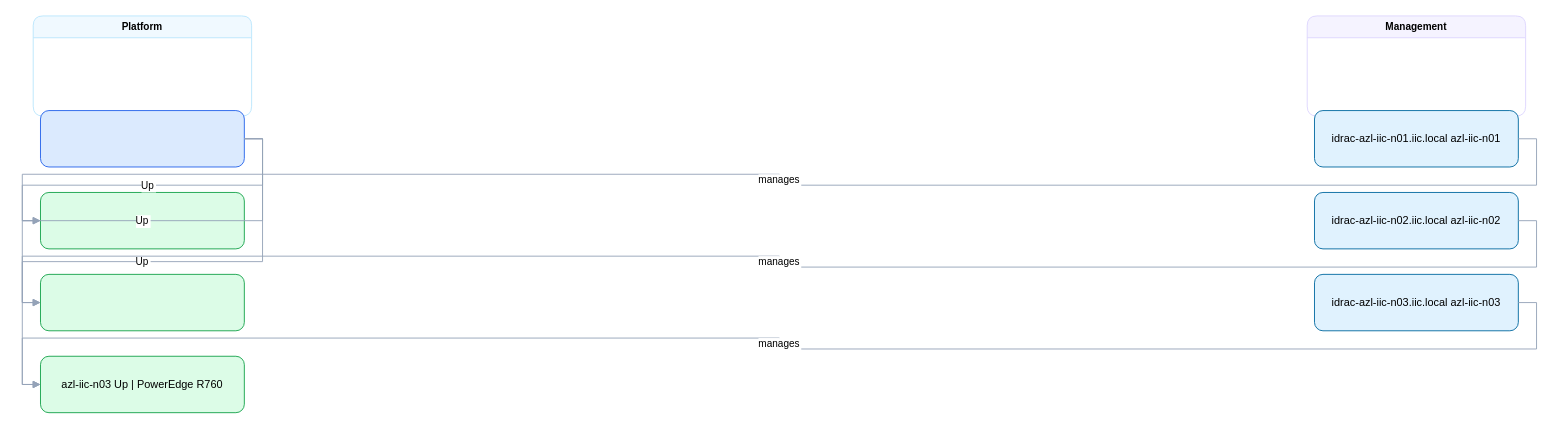
The diagram is 1560 pixels wide and 429 high, and some of its shapes have lost their labels. The shapes that lost their labels are listed below. From the top down, each one's centre as x and y in pixels, then its label:
(142,138): azlocal-iic-01 hyperconverged
(142,220): azl-iic-n01 Up | PowerEdge R760
(142,302): azl-iic-n02 Up | PowerEdge R760
